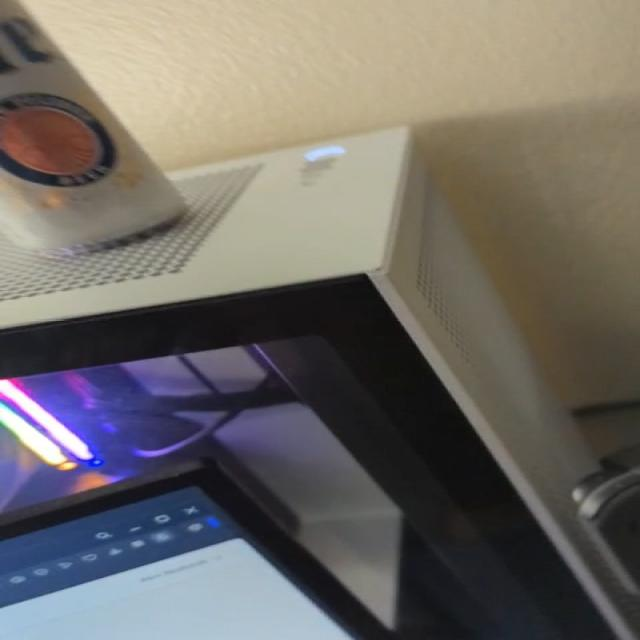metal: (2, 0, 185, 249)
